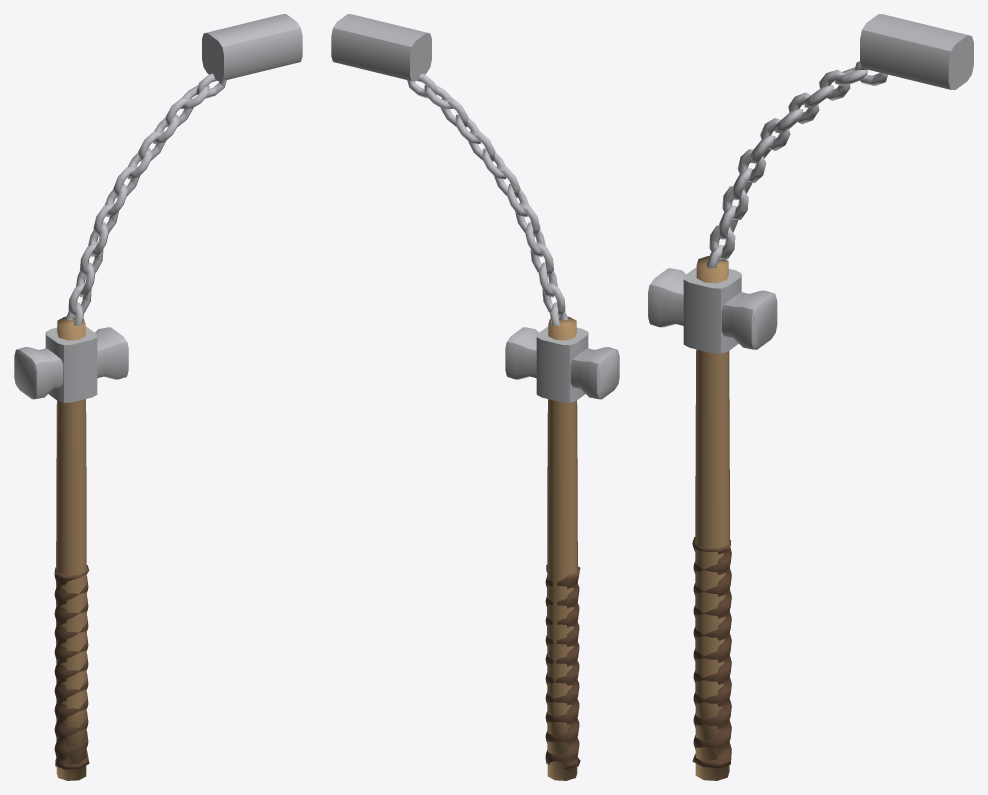
The model's file is chain-hammer.glb.
The picture shows the model from 3 angles, left to right: view 1: azimuth 30°, elevation 25°; view 2: azimuth 150°, elevation 25°; view 3: azimuth 330°, elevation 25°; orthographic projection. The views are drawn at different scales.
Parts seen in each view (by area): view 1: chain-hammer; view 2: chain-hammer; view 3: chain-hammer.
Boxes of the visible parts, x1,y1,x2,y2 form: chain-hammer: (14, 14, 302, 780); chain-hammer: (331, 14, 619, 780); chain-hammer: (648, 14, 973, 780).
Bounding box in the file's own units: 0.68 × 1.71 × 0.1004.
